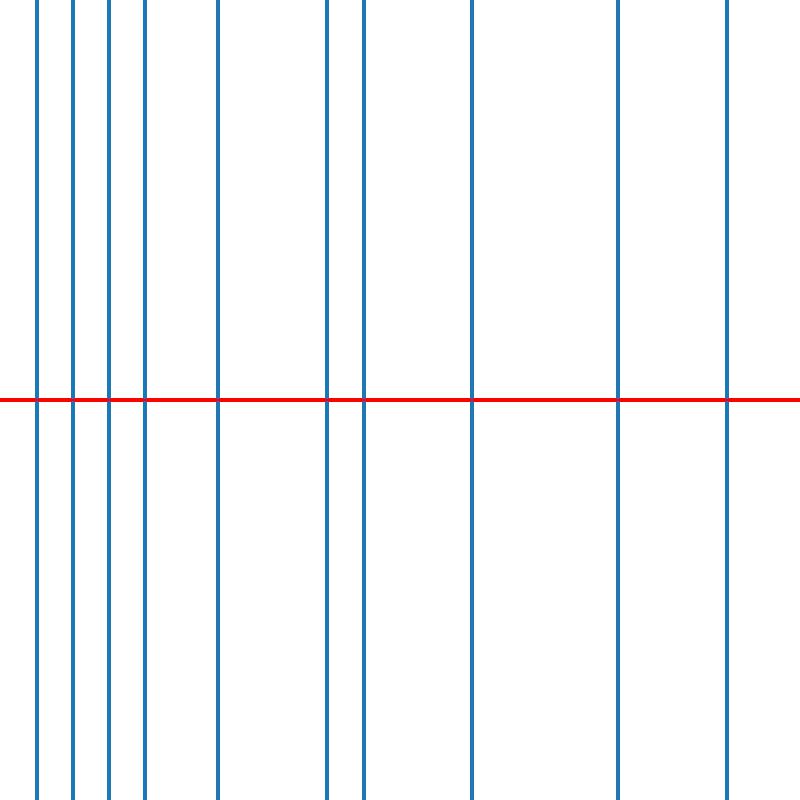root: (141, 396, 149, 404), (32, 396, 40, 404), (214, 396, 221, 404), (323, 396, 330, 404), (469, 396, 476, 404), (360, 396, 367, 404), (69, 396, 76, 404), (614, 396, 621, 404), (723, 396, 730, 404), (105, 396, 112, 404)
